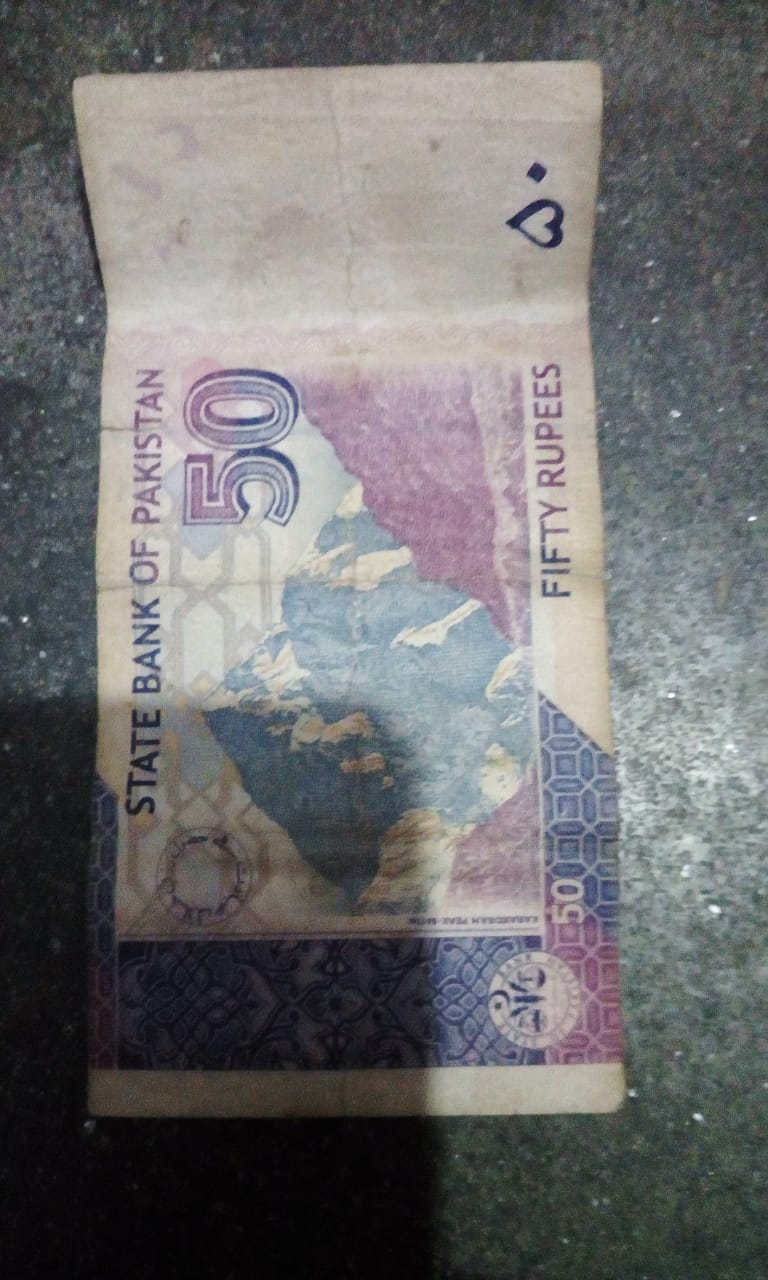50 rupee: (33, 52, 681, 1171)
